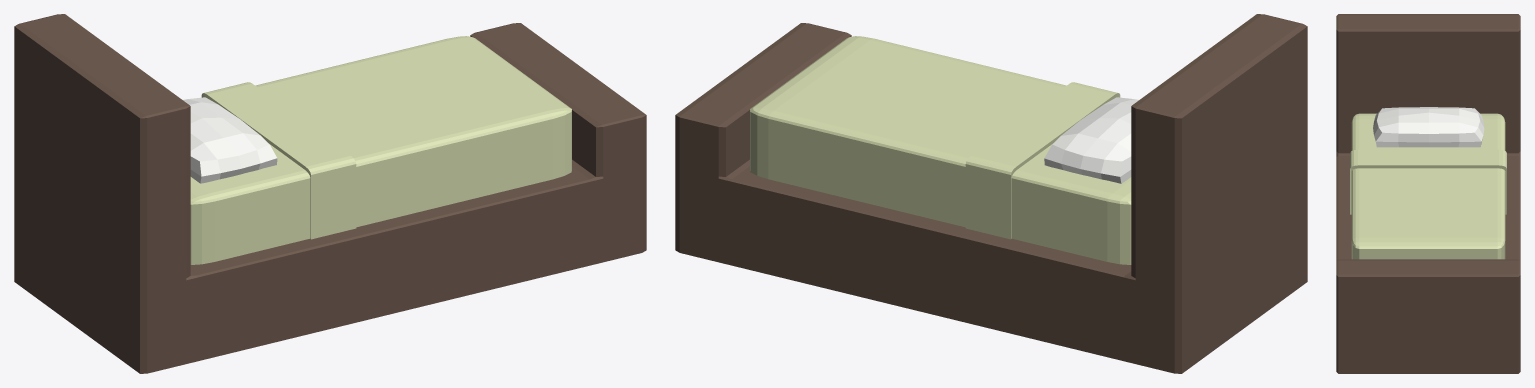
File: Cama_Individual_01.fbx
3 renders of one model, left to right at view 1: azimuth 30°, elevation 25°; view 2: azimuth 150°, elevation 25°; view 3: azimuth 270°, elevation 25°, orthographic. The views are drawn at different scales.
Parts seen in each view (by area): view 1: Cama_Individual_01; view 2: Cama_Individual_01; view 3: Cama_Individual_01.
Boxes of the visible parts, x1=… form: Cama_Individual_01: x1=14, y1=14, x2=646, y2=373; Cama_Individual_01: x1=675, y1=14, x2=1307, y2=373; Cama_Individual_01: x1=1336, y1=14, x2=1520, y2=373.
Bounding box in the file's own units: 250 × 121 × 110.
